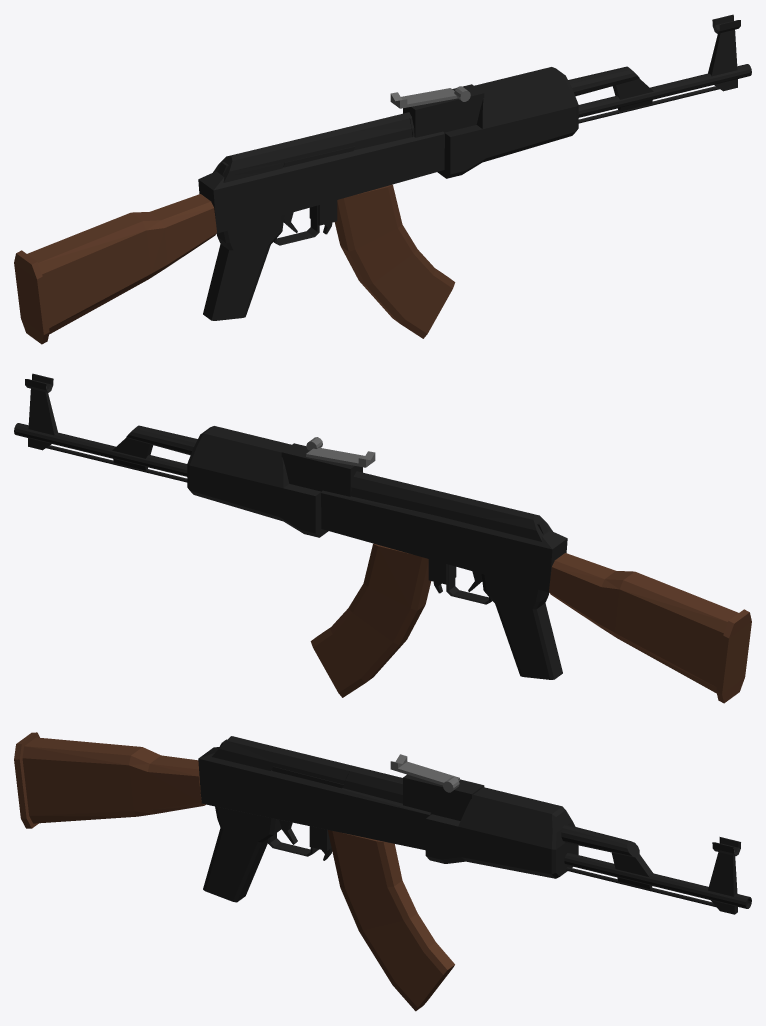
File: gun.obj
The picture shows the model from 3 angles, top to bottom: view 1: azimuth 30°, elevation 25°; view 2: azimuth 150°, elevation 25°; view 3: azimuth 330°, elevation 25°; orthographic projection.
Size of the model in its own units: 1.39 by 0.4485 by 0.0816.
1 material, 1 textured.
